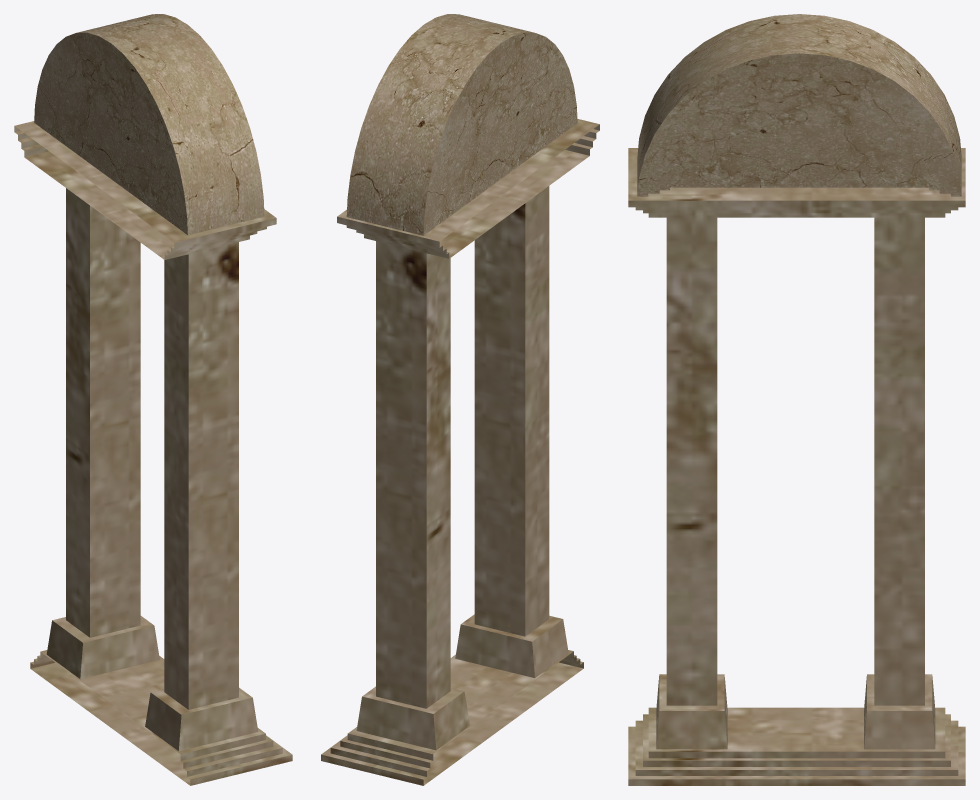
Rendered from pasted__window19.fbx.
The picture shows the model from 3 angles, left to right: view 1: azimuth 30°, elevation 25°; view 2: azimuth 150°, elevation 25°; view 3: azimuth 270°, elevation 25°; orthographic projection. The views are drawn at different scales.
Parts seen in each view (by area): view 1: pasted__stone_column_815, pasted__stone_column_814, pasted__Node_1365, pasted__stone_column_813, pasted__stone_column_812; view 2: pasted__stone_column_814, pasted__stone_column_815, pasted__Node_1365, pasted__stone_column_813, pasted__stone_column_812; view 3: pasted__Node_1365, pasted__stone_column_815, pasted__stone_column_814, pasted__stone_column_813, pasted__stone_column_812.
Boxes of the visible parts, x1,y1,x2,y2 form: pasted__stone_column_815: (145,242,258,751); pasted__stone_column_814: (46,188,159,679); pasted__Node_1365: (34,14,264,235); pasted__stone_column_813: (30,650,292,785); pasted__stone_column_812: (14,121,276,259); pasted__stone_column_814: (356,241,469,750); pasted__stone_column_815: (455,186,568,677); pasted__Node_1365: (346,14,577,235); pasted__stone_column_813: (321,650,583,785); pasted__stone_column_812: (337,119,599,258); pasted__Node_1365: (637,14,961,196); pasted__stone_column_815: (656,217,727,749); pasted__stone_column_814: (864,217,935,749); pasted__stone_column_813: (628,707,965,785); pasted__stone_column_812: (628,148,965,217).
Size of the model in its own units: 14.52 by 34.02 by 80.07.
